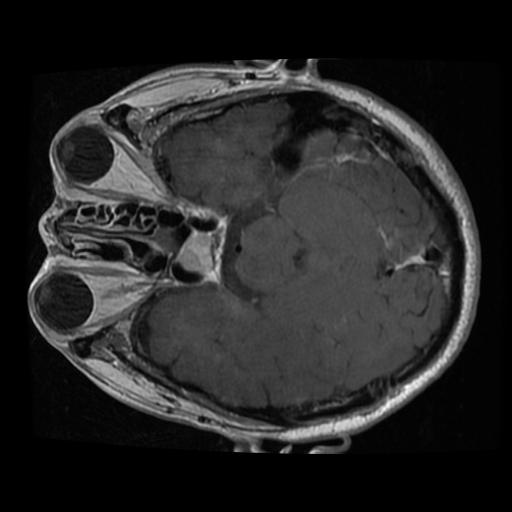pituitary tumour: (179, 233, 212, 274)
